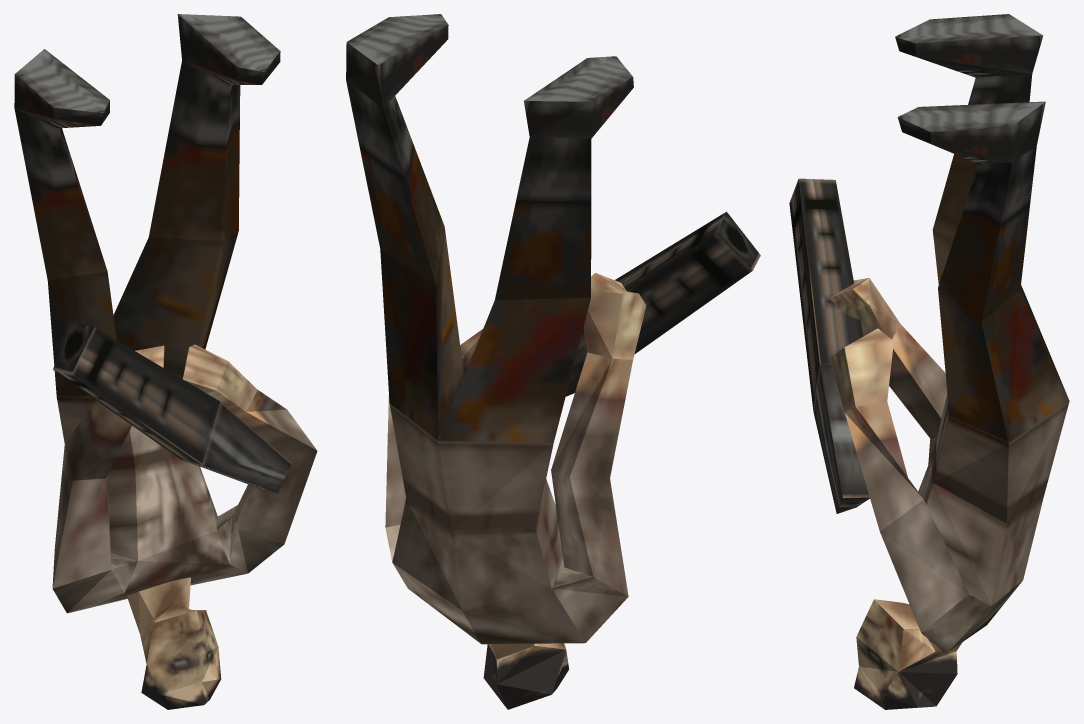
File: GOON_000005.obj
3 renders of one model, left to right at view 1: azimuth 30°, elevation 25°; view 2: azimuth 150°, elevation 25°; view 3: azimuth 270°, elevation 25°, orthographic. The views are drawn at different scales.
Visible parts, largest first — view 1: Cube_Cube.001; view 2: Cube_Cube.001; view 3: Cube_Cube.001.
Part boxes in pixels (x1,y1,x2,y2): Cube_Cube.001: (14,14,317,709); Cube_Cube.001: (346,14,760,709); Cube_Cube.001: (789,14,1069,709).
Size of the model in its own units: 12.46 by 25.11 by 9.99.
